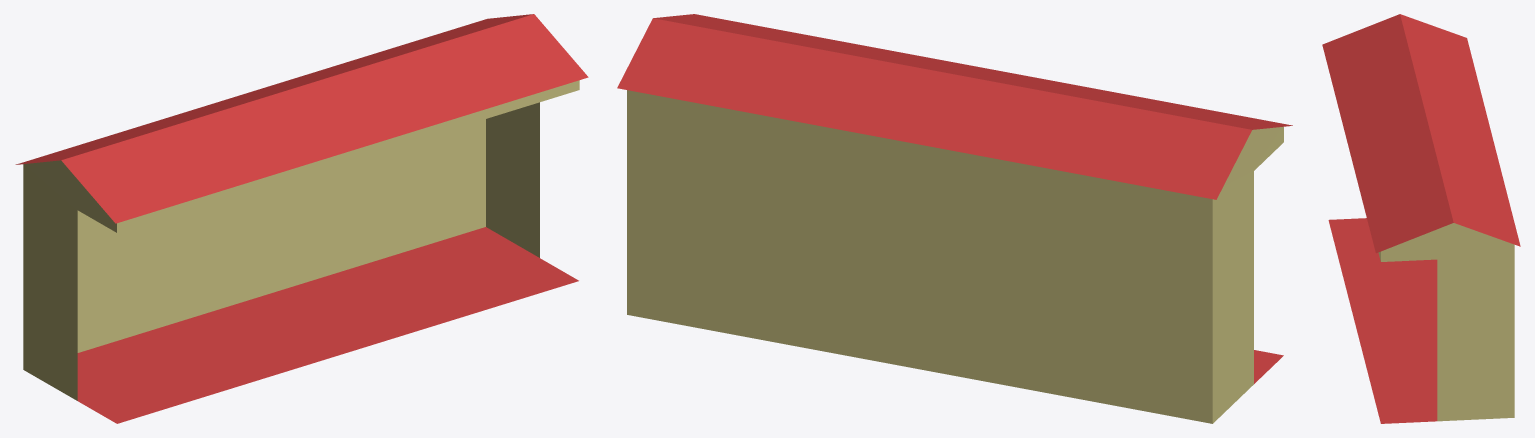
3 renders of one model, left to right at view 1: azimuth 30°, elevation 25°; view 2: azimuth 150°, elevation 25°; view 3: azimuth 270°, elevation 25°, orthographic. The views are drawn at different scales.
Bounding box in the file's own units: 22.67 × 8.83 × 9.82.
